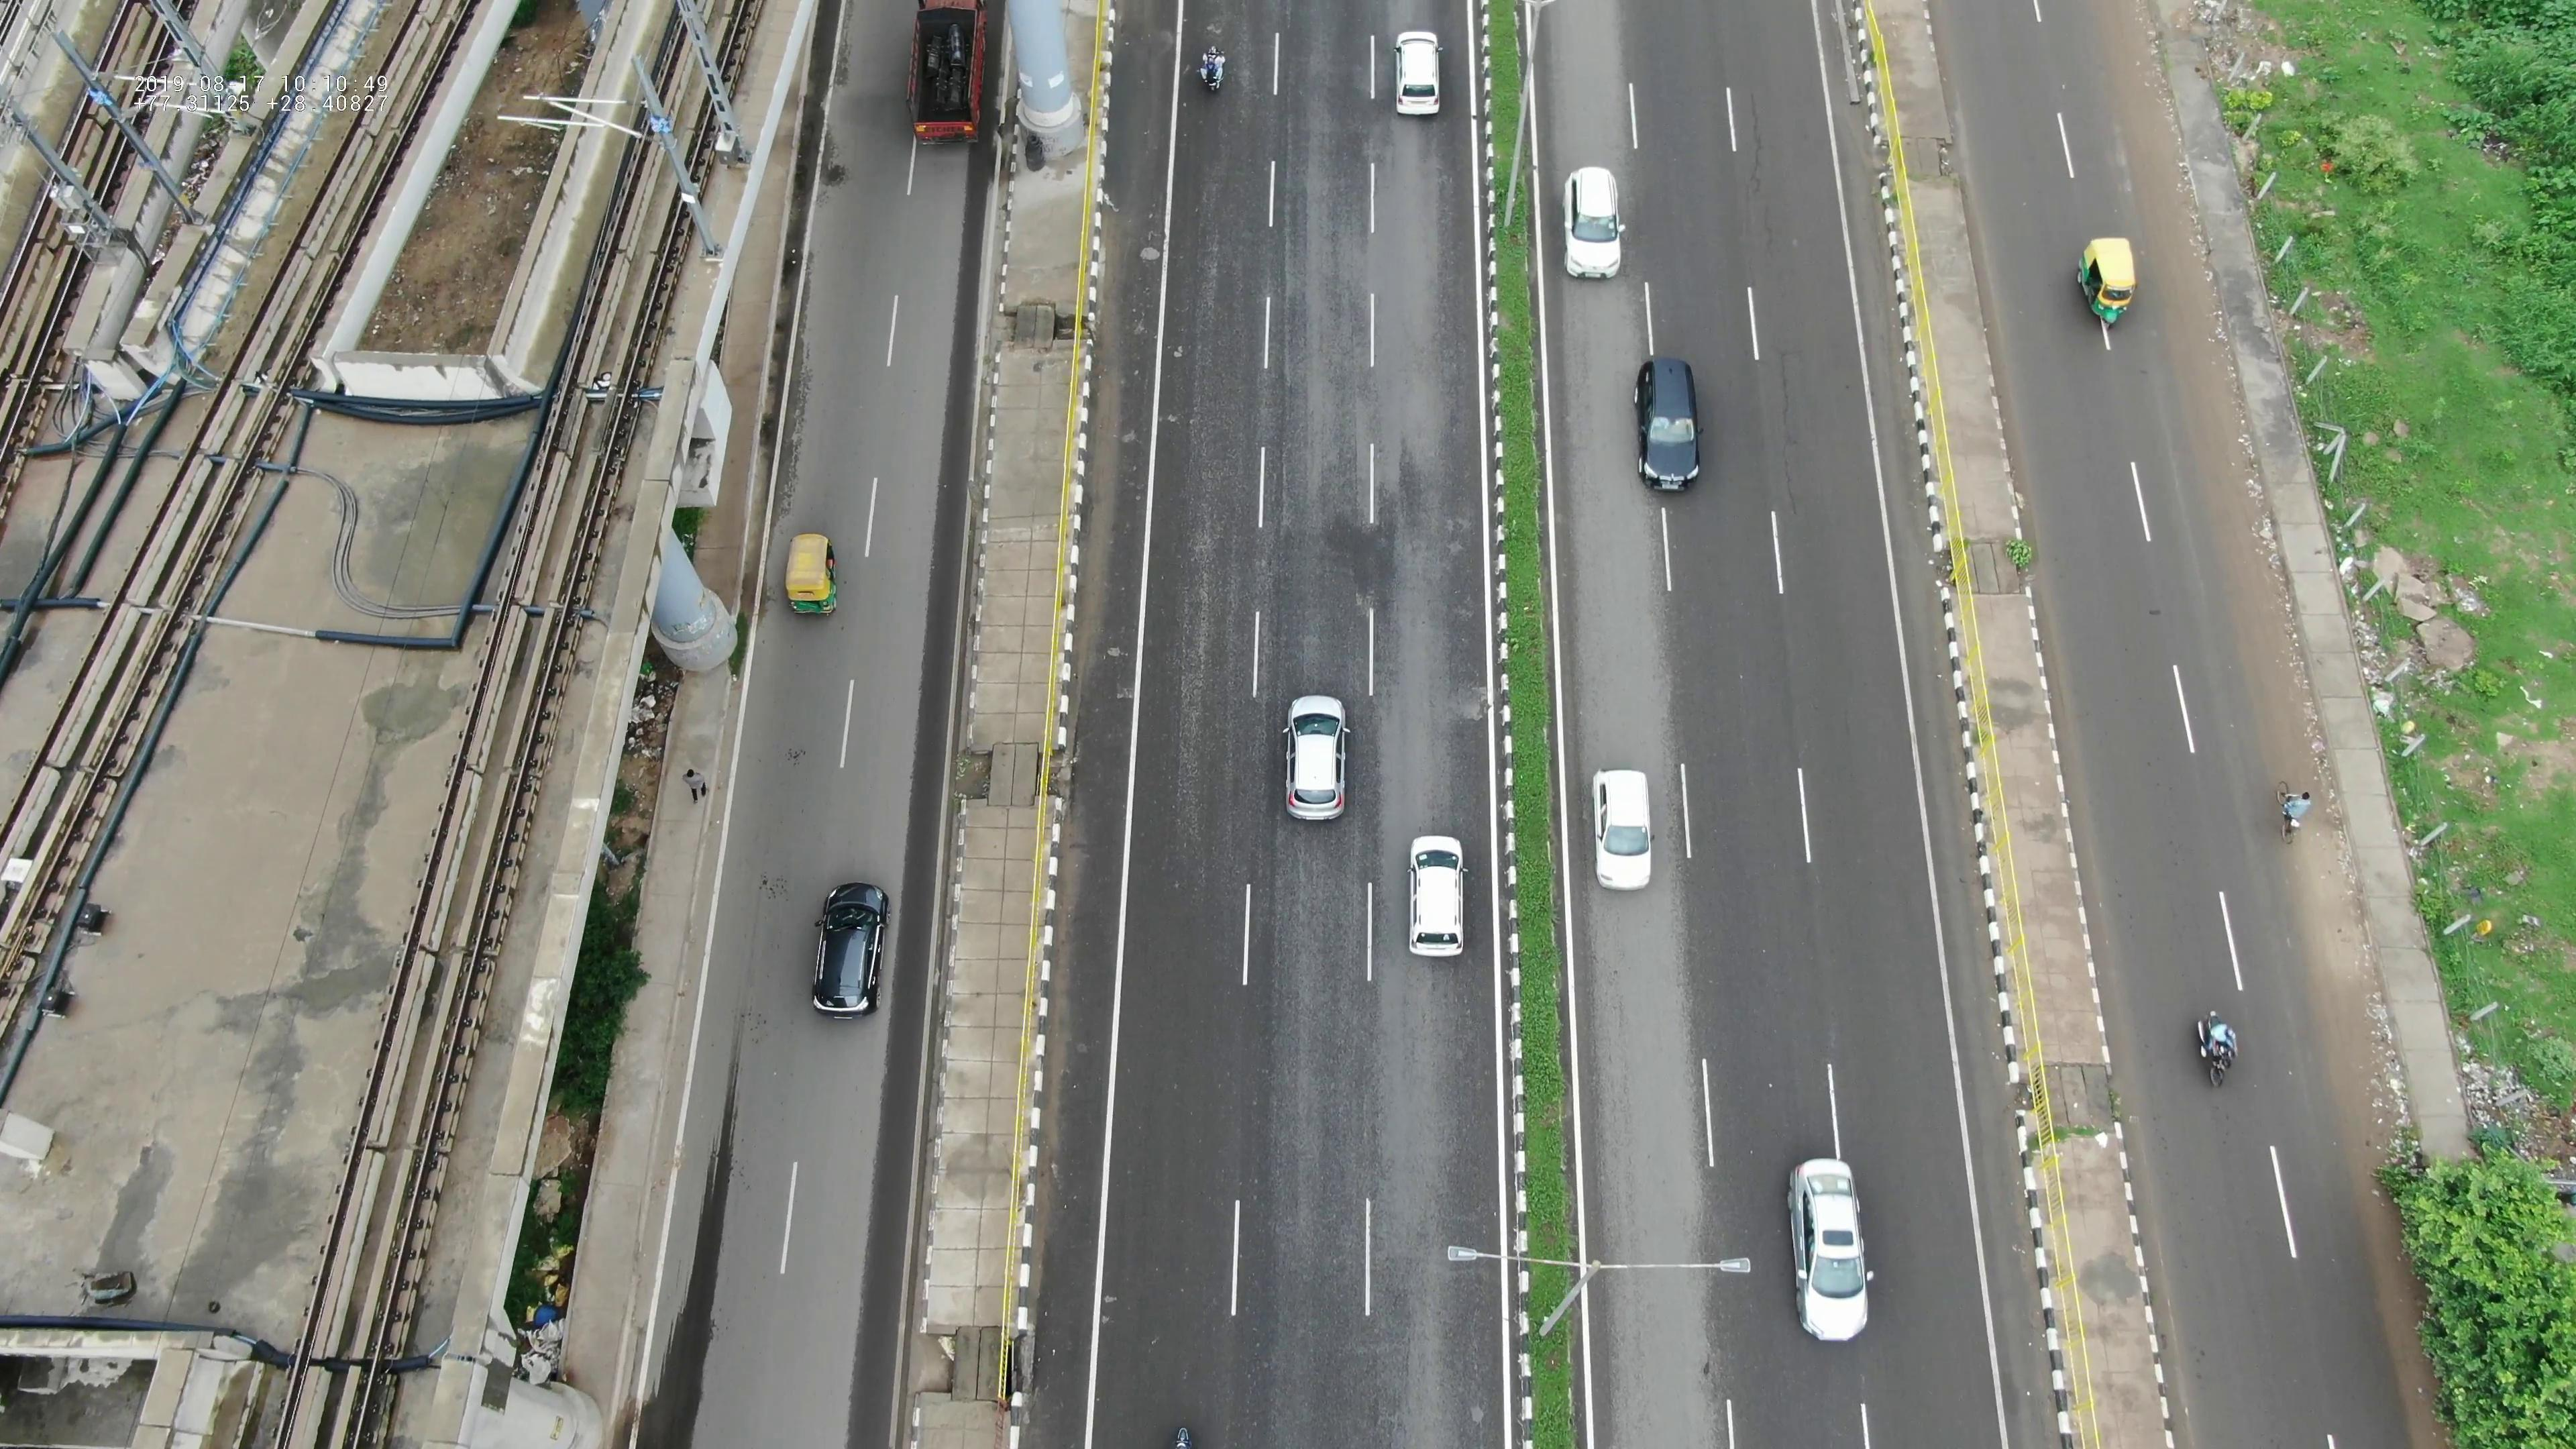Muddy_road: (2298, 897, 2392, 1113), (2181, 382, 2268, 571), (2236, 603, 2327, 782), (2089, 16, 2180, 193)
